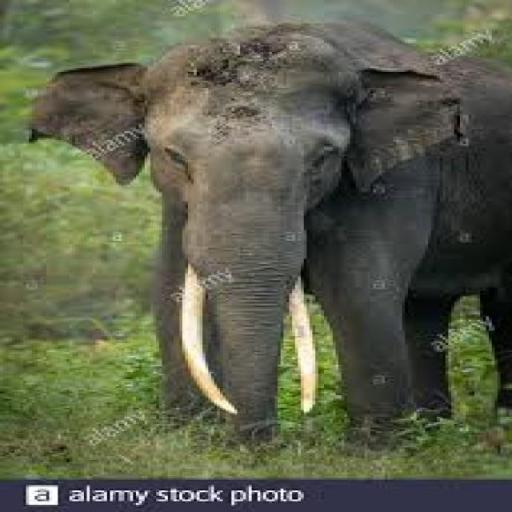Elephant: (23, 16, 509, 447)
